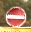No entry: (5, 5, 26, 26)
